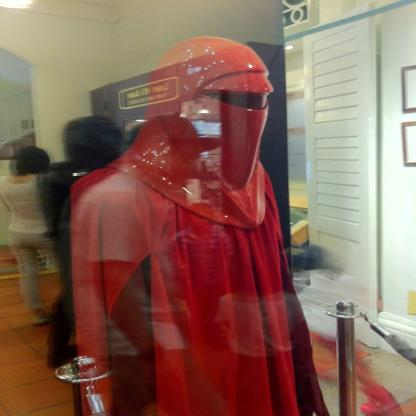Helmet: (111, 34, 267, 228)
